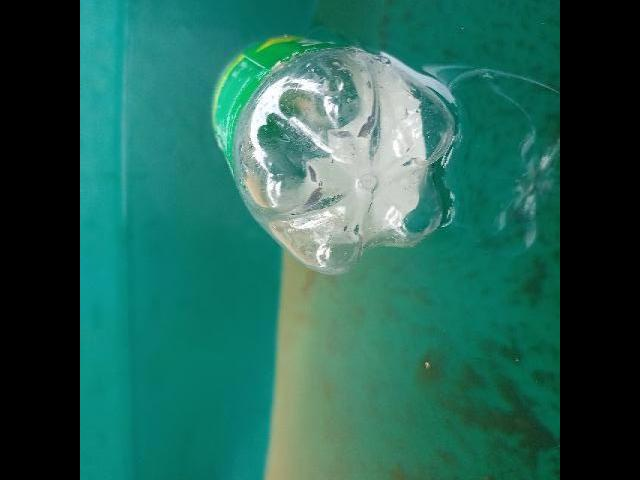Bottle: (207, 21, 464, 293)
